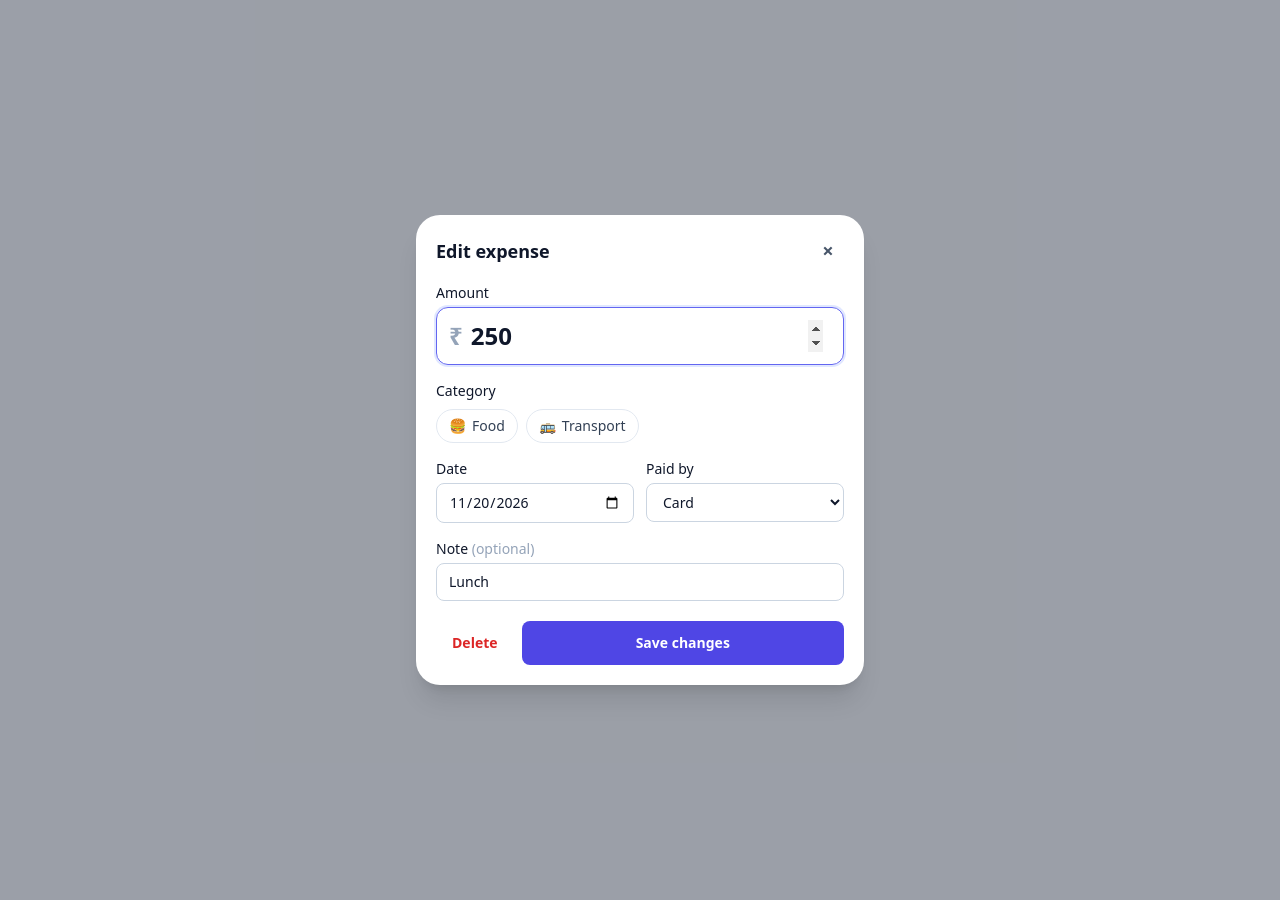
it: edit mode › keeps the category empty when the expense lost its category
Click the button "Save changes" at point(683, 643), box [522,621,844,665]
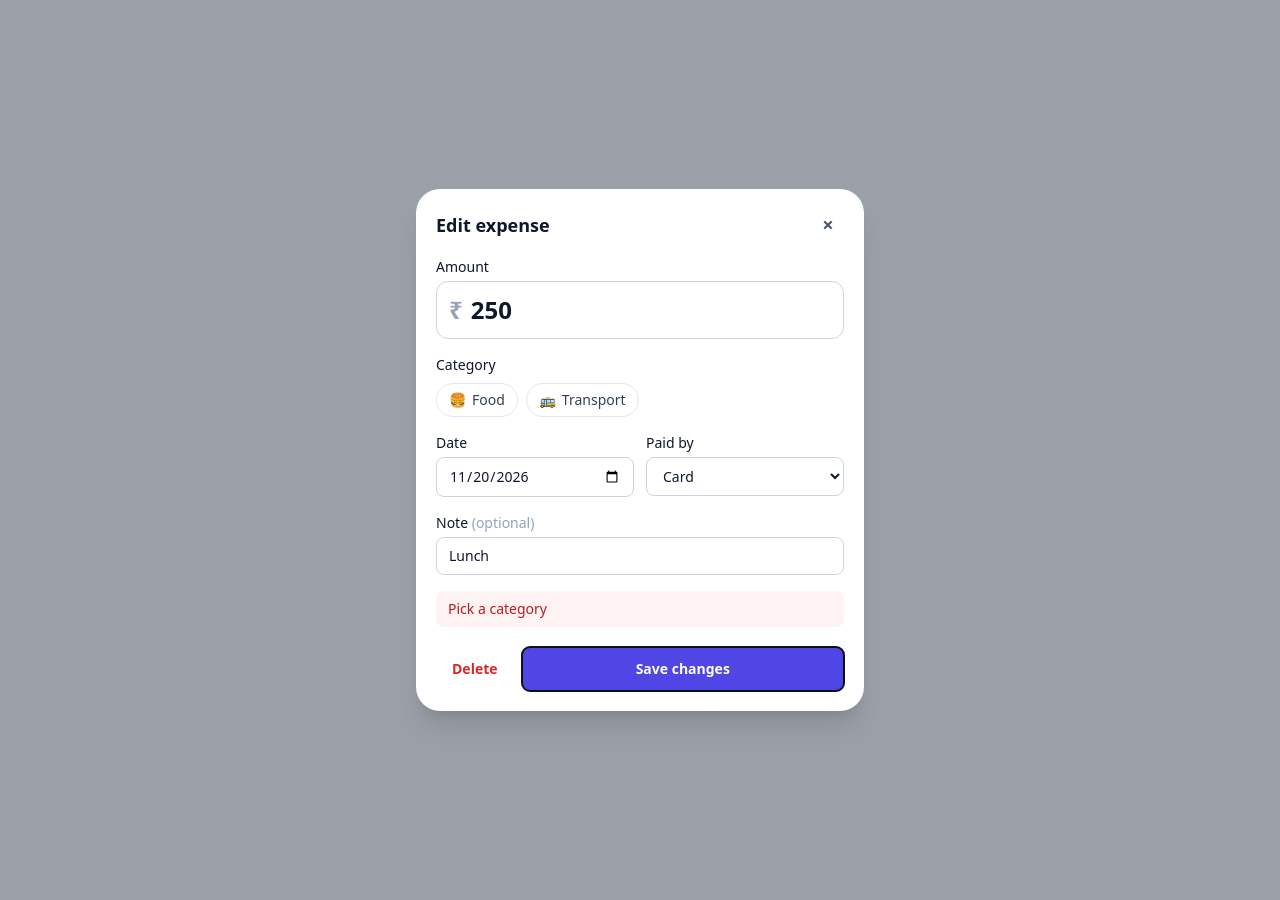
Expected: the text "Pick a category" is shown, [436,591,844,627]
